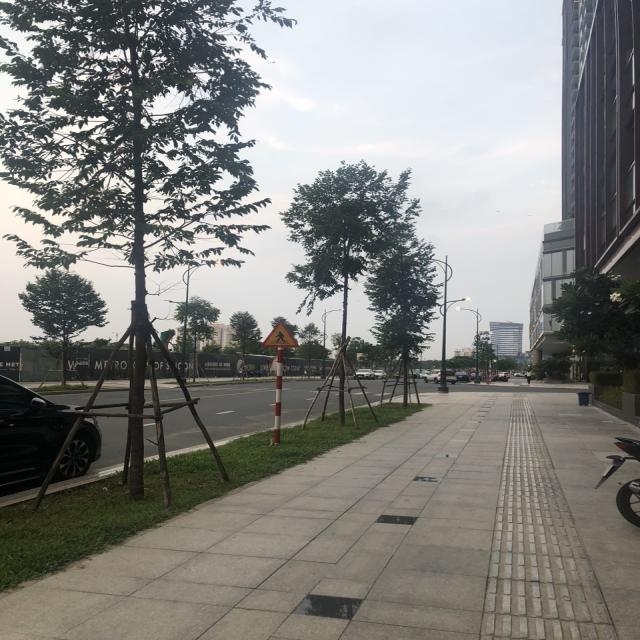Bien bao duong nguoi di bo cat ngang: (257, 318, 303, 351)
